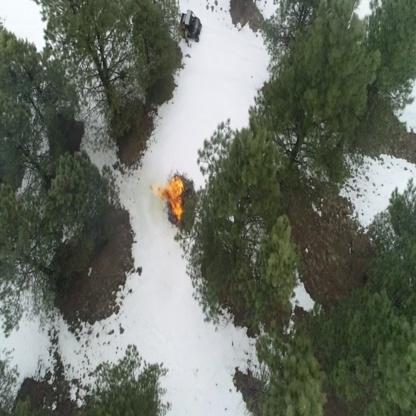Fire: (150, 173, 185, 223)
